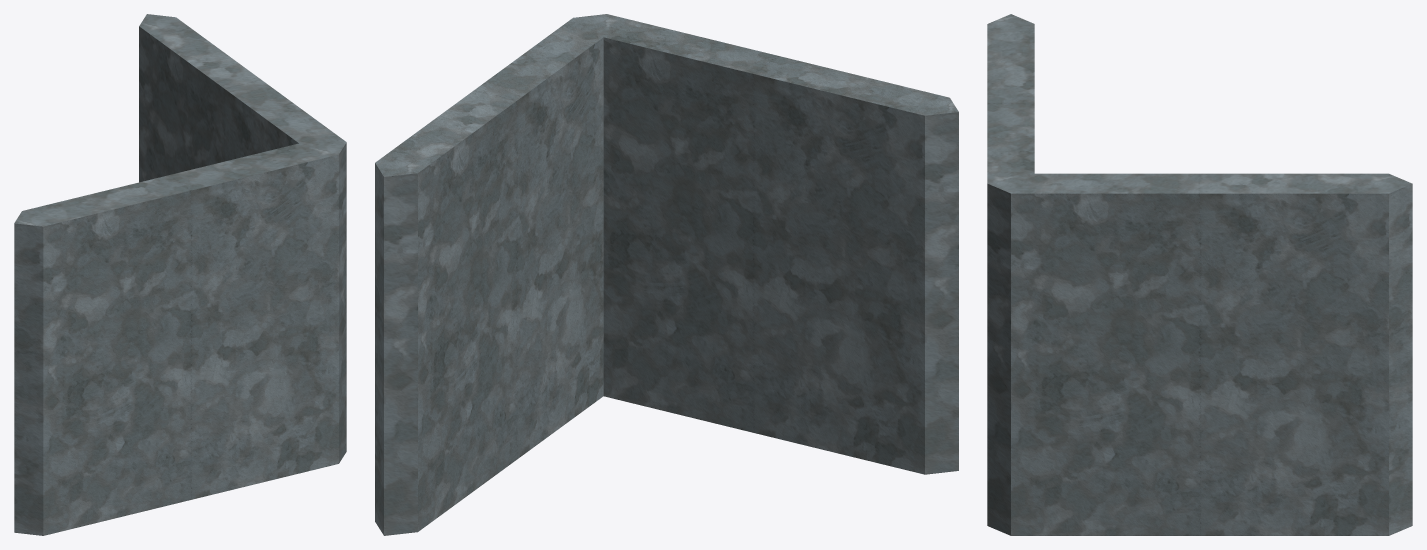
Rendered from Corner 1.fbx.
3 views of the same model, side by side, from view 1: azimuth 30°, elevation 25°; view 2: azimuth 150°, elevation 25°; view 3: azimuth 270°, elevation 25° (orthographic). The views are drawn at different scales.
Visible parts, largest first — view 1: wall_corner; view 2: wall_corner; view 3: wall_corner.
Part boxes in pixels (x1,y1,x2,y2): wall_corner: [14, 14, 346, 535]; wall_corner: [375, 14, 958, 535]; wall_corner: [987, 14, 1412, 535].
Size of the model in its own units: 11.25 by 10 by 11.25.
1 material, 1 textured.
